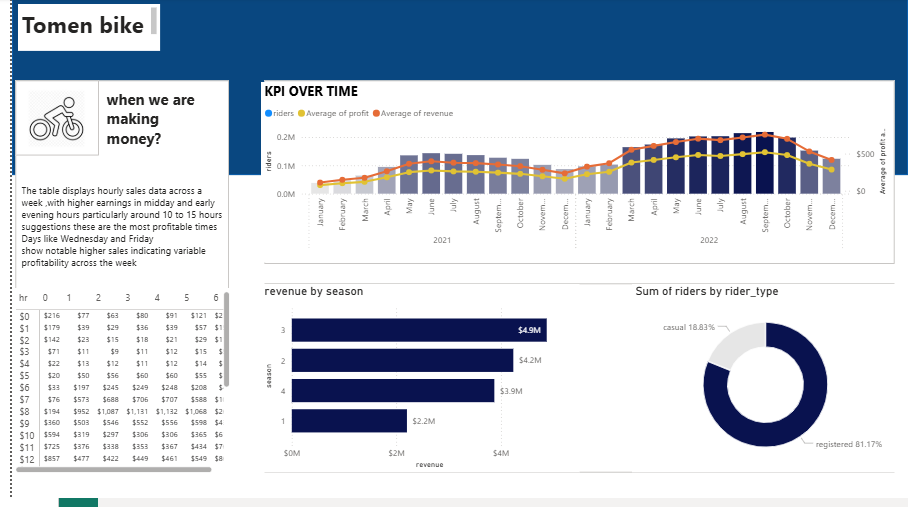

Layout of this report page (visuals, bound fields, positions):
{"tool":"powerbi","page":{"name":"Page 1","canvas":[1280,720],"ordinal":0},"visuals":[{"type":"shape","box":[0,0,1280,258.7],"z":0},{"type":"cardVisual","fields":{"Data":["Min(Query1.season)"]},"box":[0,119.3,315.8,569.4],"z":1000},{"type":"cardVisual","fields":{"Data":["Min(Query1.season)"]},"box":[356.1,119.3,910.4,272.1],"z":2000},{"type":"cardVisual","fields":{"Data":["Min(Query1.season)"]},"box":[0,119.3,129.3,117.6],"z":3000},{"type":"pivotTable","fields":{"Rows":["Query1.hr"],"Values":["Avg(Query1.revenue)"],"Columns":["Query1.weekday"]},"box":[0,419.9,315.8,268.8],"z":4000},{"type":"cardVisual","fields":{"Data":["Min(Query1.season)"]},"box":[356.1,408.2,910.4,280.5],"z":5000},{"type":"textbox","box":[129.3,129.3,164.6,95.7],"z":6000},{"type":"textbox","box":[8.4,267.1,299,141.1],"z":7000},{"type":"lineClusteredColumnComboChart","title":"KPI OVER TIME","fields":{"Category":["Query1.dteday.Variation.Date Hierarchy.Year","Query1.dteday.Variation.Date Hierarchy.Month","Query1.dteday.Variation.Date Hierarchy.Day"],"Y":["Sum(Query1.riders)"],"Y2":["Avg(Query1.profit)","Avg(Query1.revenue)"]},"box":[355.6,125.9,898.5,257.6],"z":8000},{"type":"clusteredBarChart","fields":{"Category":["Query1.season"],"Y":["Sum(Query1.revenue)"]},"box":[356.1,414.9,455.2,268.8],"z":9000},{"type":"donutChart","fields":{"Category":["Query1.rider_type"],"Y":["Sum(Query1.riders)"]},"box":[885.2,414.9,381.3,268.8],"z":10000},{"type":"textbox","box":[8.6,14.3,202.9,67.1],"z":10001}]}

Visuals, with their boxes in screenshot pixels (x1, y1, x2, y2), scaled from the page's 1280x720 canvas onto the 908x507 screenshot:
shape: detection(0, 0, 907, 182)
cardVisual - Min(Query1.season): detection(0, 84, 224, 485)
cardVisual - Min(Query1.season): detection(253, 84, 898, 276)
cardVisual - Min(Query1.season): detection(0, 84, 92, 167)
pivotTable - Query1.hr x Avg(Query1.revenue): detection(0, 296, 224, 485)
cardVisual - Min(Query1.season): detection(253, 287, 898, 485)
textbox: detection(92, 91, 208, 158)
textbox: detection(6, 188, 218, 287)
"KPI OVER TIME" lineClusteredColumnComboChart: detection(252, 89, 890, 270)
clusteredBarChart - Query1.season x Sum(Query1.revenue): detection(253, 292, 576, 481)
donutChart - Query1.rider_type x Sum(Query1.riders): detection(628, 292, 898, 481)
textbox: detection(6, 10, 150, 57)
